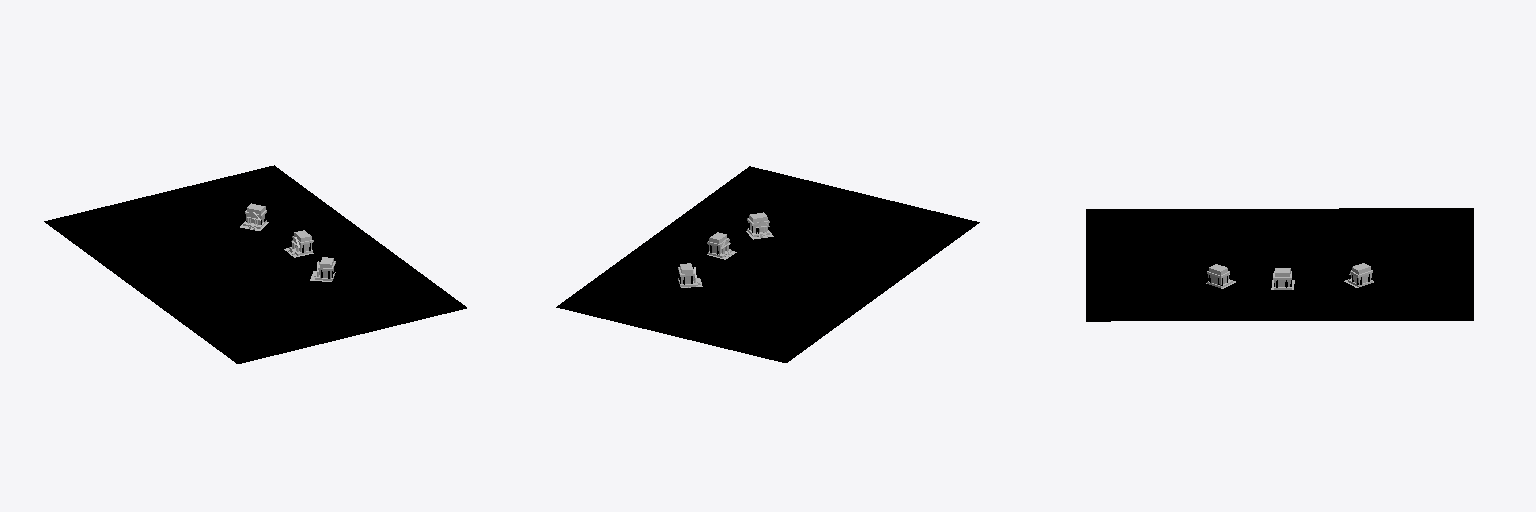
File: modelo2.obj
3 views of the same model, side by side, from view 1: azimuth 30°, elevation 25°; view 2: azimuth 150°, elevation 25°; view 3: azimuth 270°, elevation 25° (orthographic).
Visible parts, largest first — view 1: Cylinder.010; view 2: Cylinder.010; view 3: Cylinder.010.
Boxes of the visible parts, x1=… form: Cylinder.010: x1=44, y1=165, x2=466, y2=363; Cylinder.010: x1=556, y1=166, x2=979, y2=362; Cylinder.010: x1=1086, y1=208, x2=1473, y2=321.
Bounding box in the file's own units: 47.22 × 3.64 × 68.84.